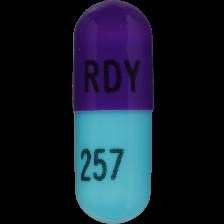55111-257: (0, 0, 224, 224)
